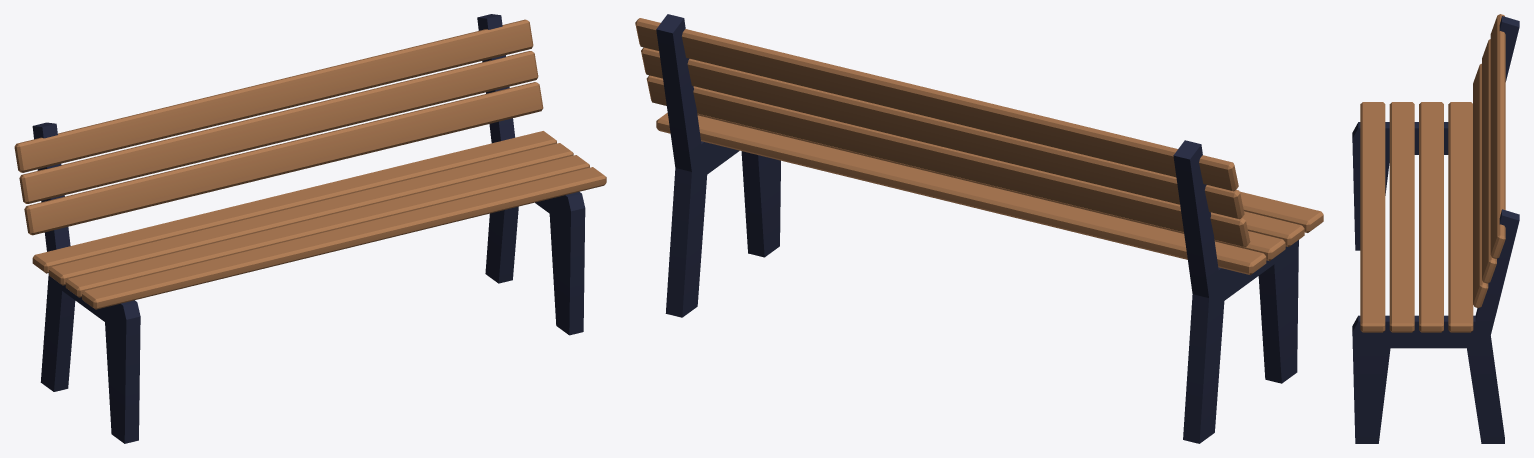
Rendered from bench.glb.
3 renders of one model, left to right at view 1: azimuth 30°, elevation 25°; view 2: azimuth 150°, elevation 25°; view 3: azimuth 270°, elevation 25°, orthographic. The views are drawn at different scales.
Visible parts, largest first — view 1: bench.001; view 2: bench.001; view 3: bench.001.
Boxes of the visible parts, box(x1,y1,x2,y2) form: bench.001: box(14, 14, 606, 443); bench.001: box(635, 14, 1323, 443); bench.001: box(1352, 14, 1519, 443).
Bounding box in the file's own units: 1.8 × 0.8599 × 0.57.
1 material, 1 textured.
